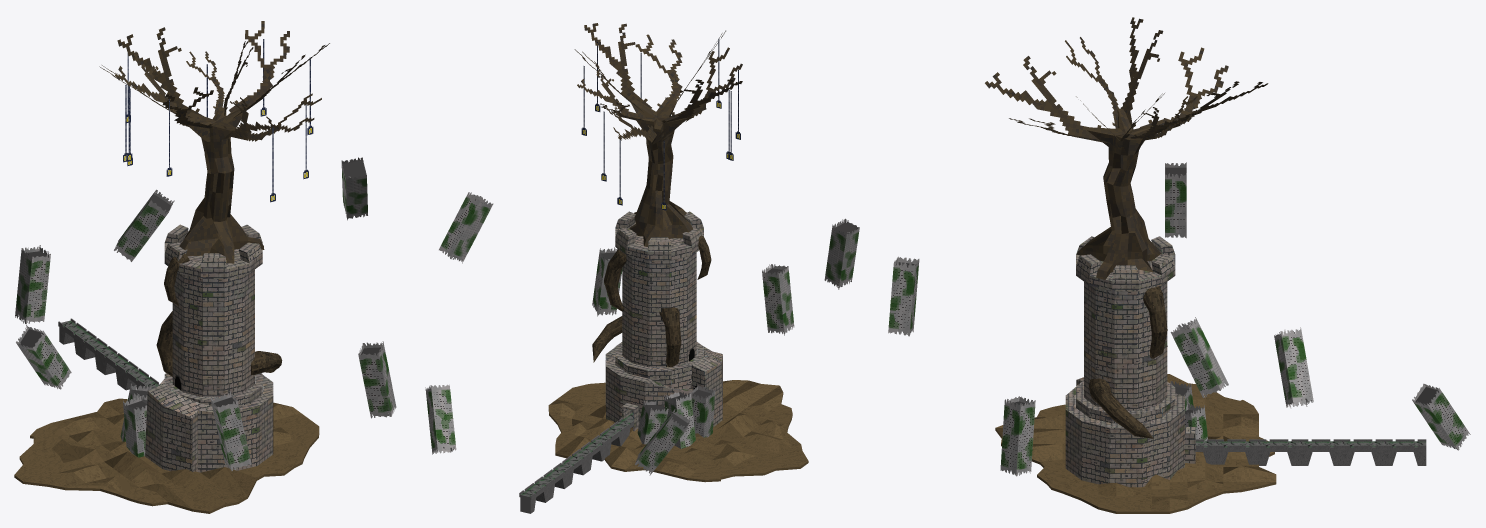
File: Island towerss.gltf
The picture shows the model from 3 angles, left to right: view 1: azimuth 30°, elevation 25°; view 2: azimuth 150°, elevation 25°; view 3: azimuth 270°, elevation 25°; orthographic projection. The views are drawn at different scales.
Visible parts, largest first — view 1: cylinder (×5), cuboid, Main (×10), cube (×8); view 2: cylinder (×5), cuboid, Main (×9), cube (×8); view 3: cylinder (×4), cuboid, cube (×9), Main (×6).
Part boxes in pixels (x1,y1,x2,y2): cylinder (×5): (145, 104, 282, 472); cuboid: (14, 398, 319, 513); Main (×10): (15, 160, 395, 466); cube (×8): (58, 21, 321, 390); cylinder (×5): (592, 99, 722, 431); cuboid: (548, 380, 808, 482); Main (×9): (426, 196, 859, 459); cube (×8): (519, 23, 742, 513); cylinder (×4): (1065, 108, 1195, 487); cuboid: (995, 374, 1276, 513); cube (×9): (985, 17, 1426, 465); Main (×6): (890, 167, 1459, 452).
Size of the model in its own units: 2.52 by 2.74 by 3.35.
12 materials, 12 textured.
